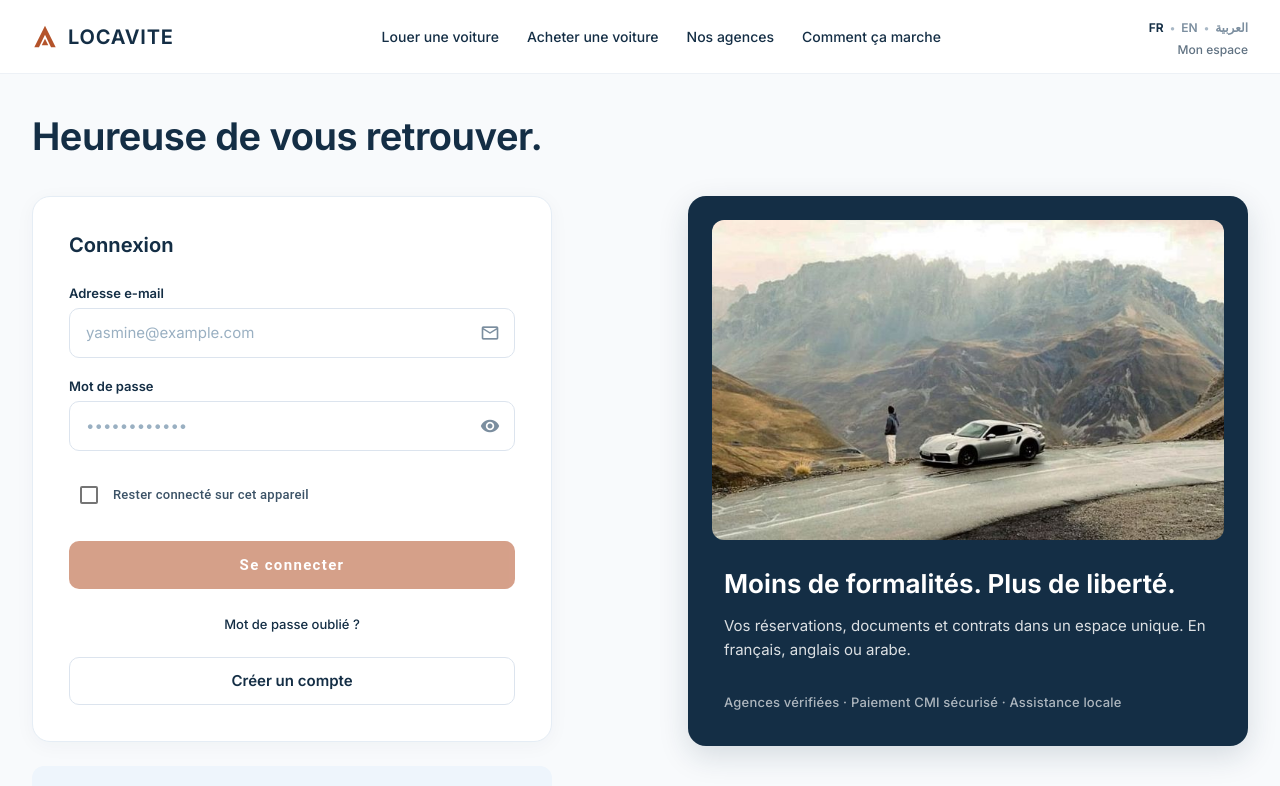
Profil client (Angular) › connexion et affichage complet du profil client
Type "ahmed.benali@locavite.ma" into the field named "email" at (282, 333), box [84, 308, 480, 358]
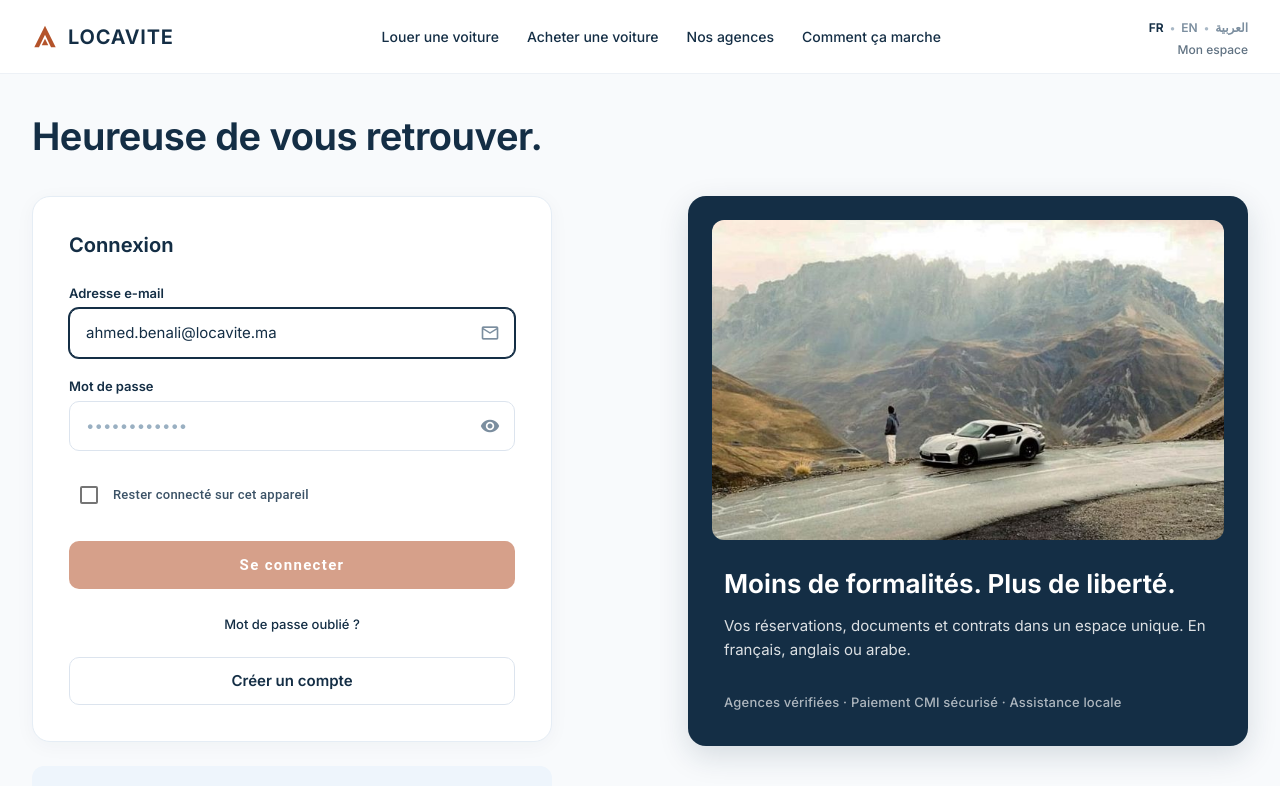
Type "Motdepasse123!" into the password field named "password" at (282, 426), box [84, 401, 480, 451]
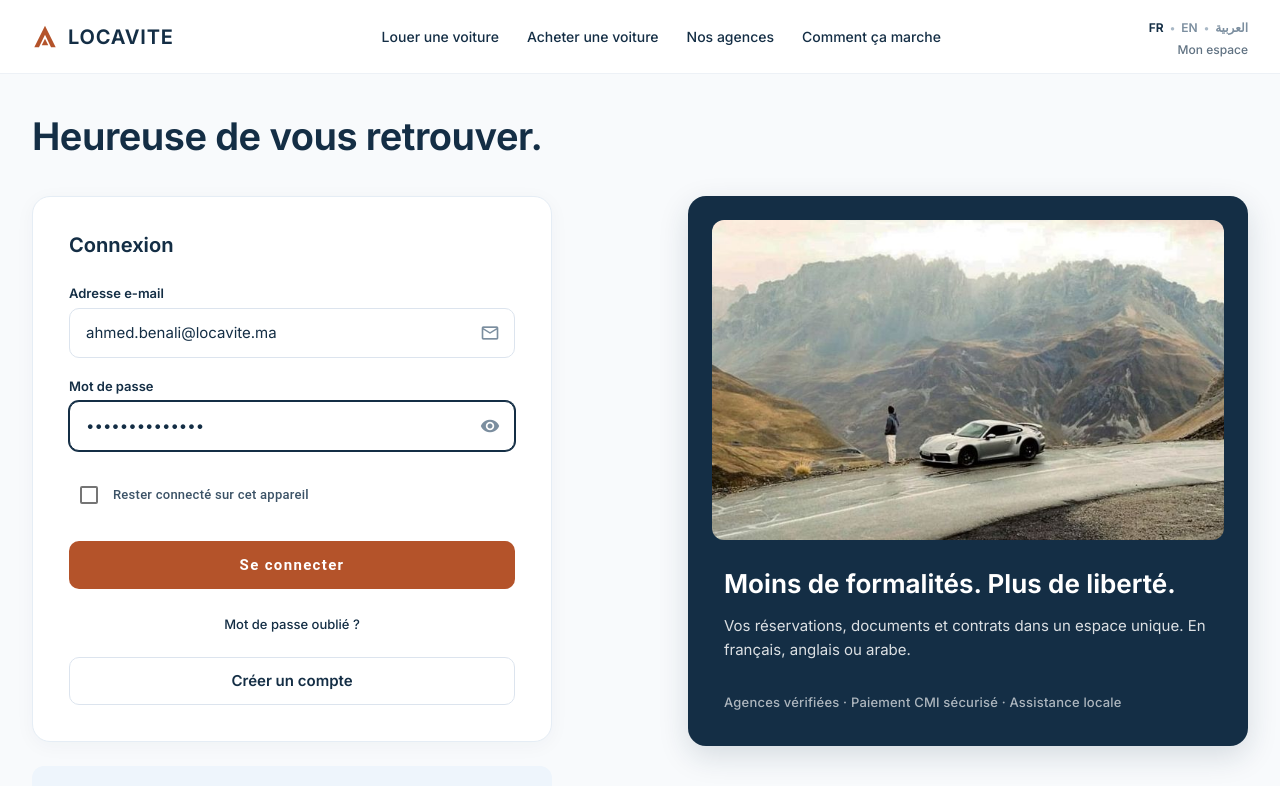
Click the submit button at (292, 565), box [69, 541, 515, 589]
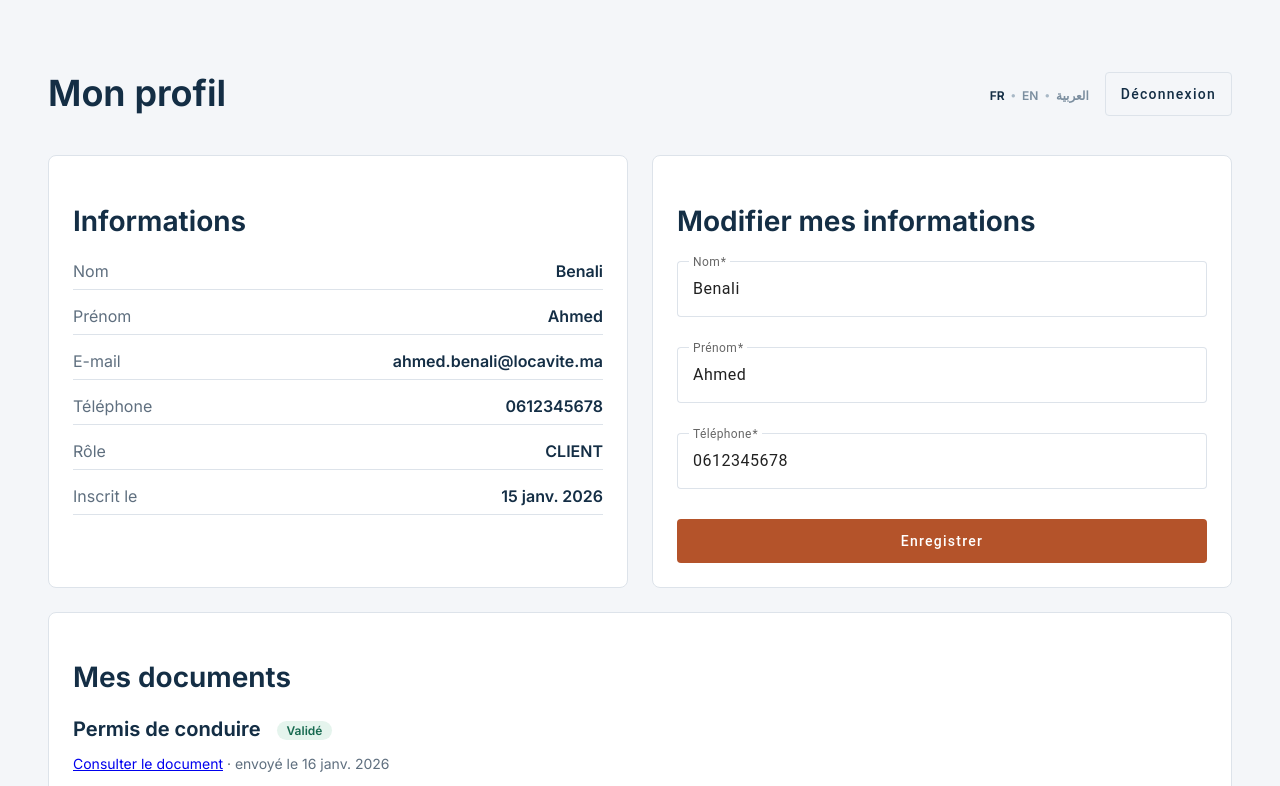
Check: the heading "Mon profil" is shown, box [48, 72, 226, 115]
Check: the text "Benali" is shown, box [556, 261, 603, 281]
Check: the text "Ahmed" is shown, box [548, 306, 603, 326]
